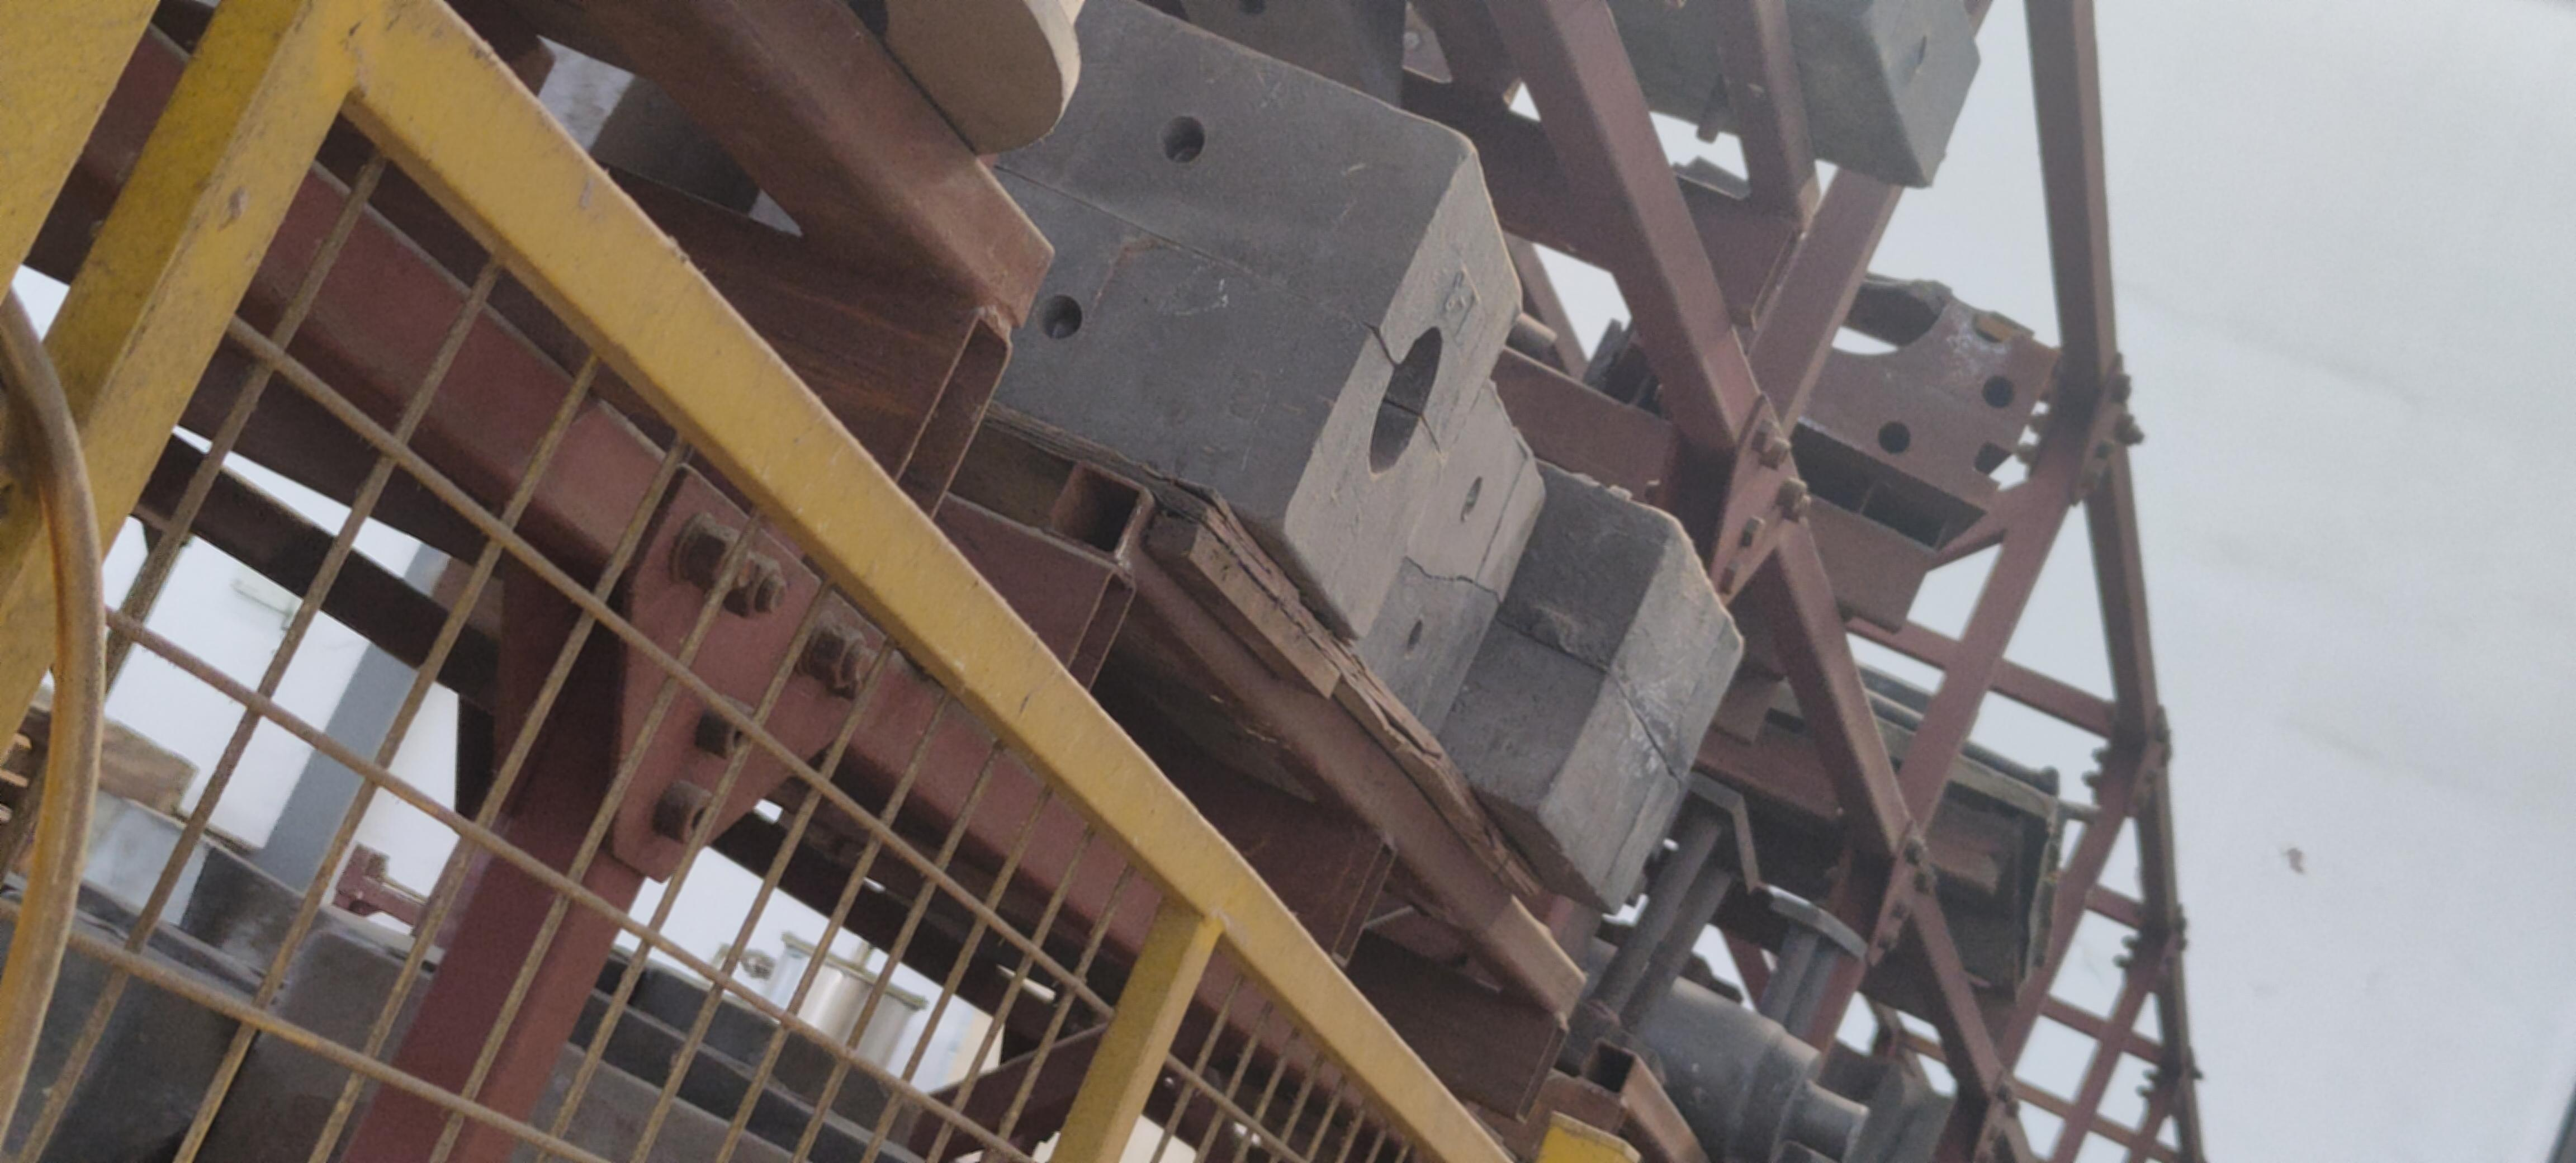pouring hole: (1362, 320, 1446, 476)
